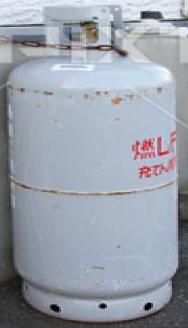cylinder: (1, 0, 188, 328)
